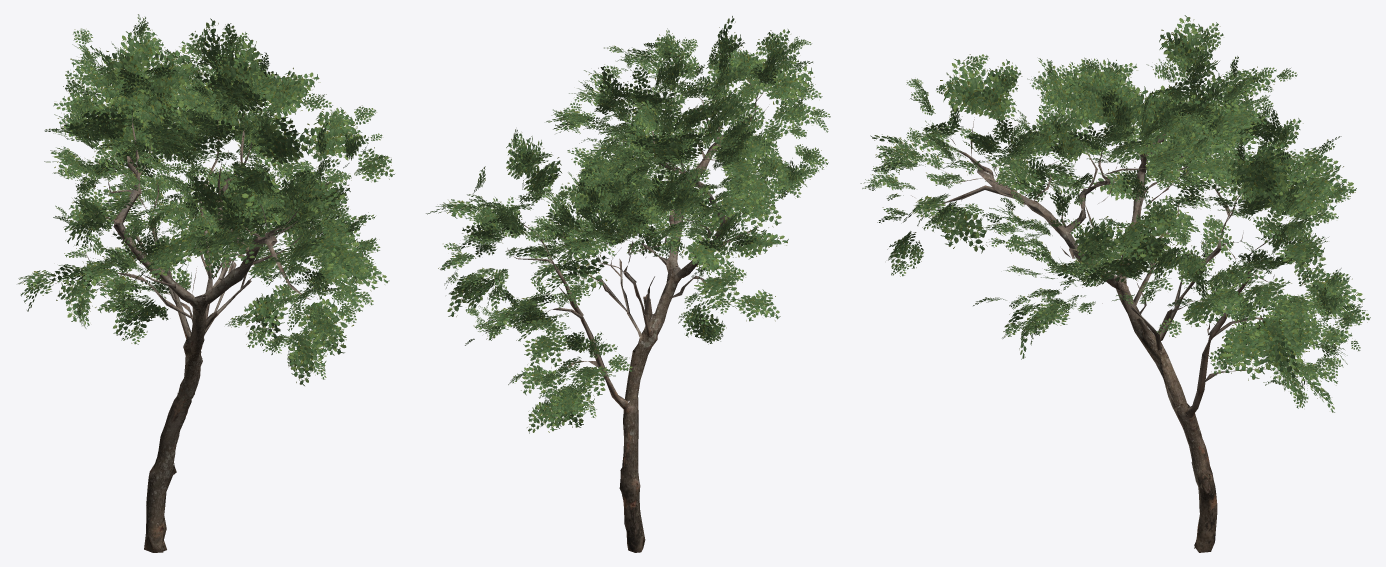
Rendered from ph_tree_small_02_hi.glb.
3 views of the same model, side by side, from view 1: azimuth 30°, elevation 25°; view 2: azimuth 150°, elevation 25°; view 3: azimuth 270°, elevation 25° (orthographic). The views are drawn at different scales.
Visible parts, largest first — view 1: tree_small_02_LOD0; view 2: tree_small_02_LOD0; view 3: tree_small_02_LOD0.
Part boxes in pixels (x1,y1,x2,y2): tree_small_02_LOD0: [18, 14, 394, 552]; tree_small_02_LOD0: [426, 16, 830, 552]; tree_small_02_LOD0: [860, 15, 1370, 552].
Bounding box in the file's own units: 2.98 × 4.6 × 4.31.
Materials: 3 (3 with a texture image).
